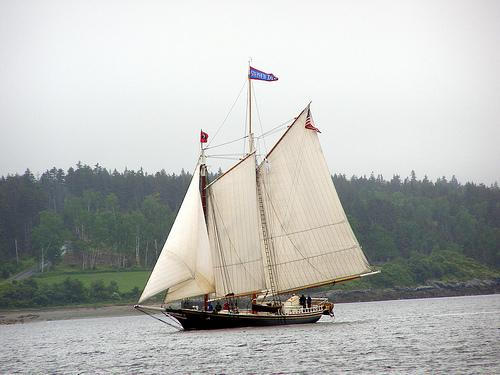Ship: (137, 67, 382, 328)
